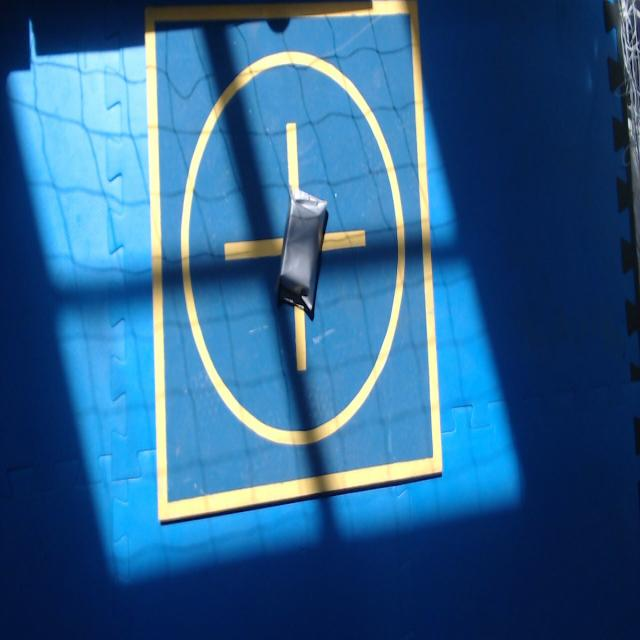lipo: (279, 188, 328, 319)
